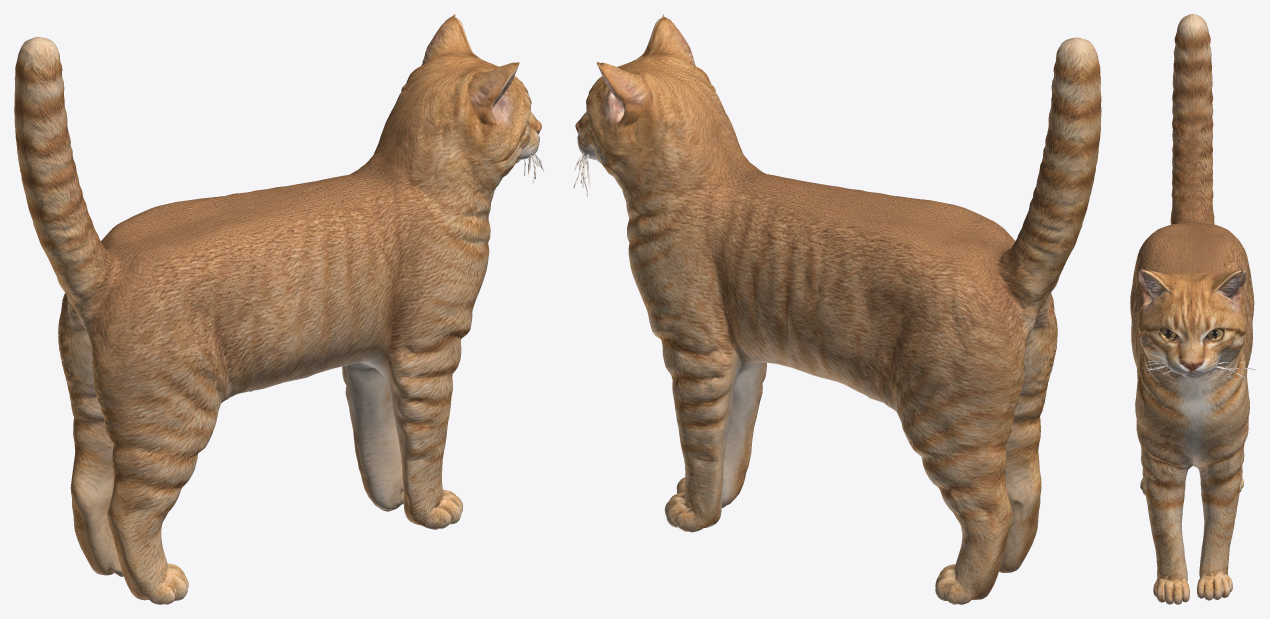
The model's file is ORANGEY.glb.
3 renders of one model, left to right at view 1: azimuth 30°, elevation 25°; view 2: azimuth 150°, elevation 25°; view 3: azimuth 270°, elevation 25°, orthographic. The views are drawn at different scales.
Visible parts, largest first — view 1: tripo_node_d8edb16e-315b-402f-bc6f-e334517b3af8; view 2: tripo_node_d8edb16e-315b-402f-bc6f-e334517b3af8; view 3: tripo_node_d8edb16e-315b-402f-bc6f-e334517b3af8.
Part boxes in pixels (<box>): tripo_node_d8edb16e-315b-402f-bc6f-e334517b3af8: <box>14,14,543,604</box>; tripo_node_d8edb16e-315b-402f-bc6f-e334517b3af8: <box>573,14,1101,604</box>; tripo_node_d8edb16e-315b-402f-bc6f-e334517b3af8: <box>1130,14,1255,604</box>.
Size of the model in its own units: 0.9563 by 0.9997 by 0.259.
1 material, 1 textured.
